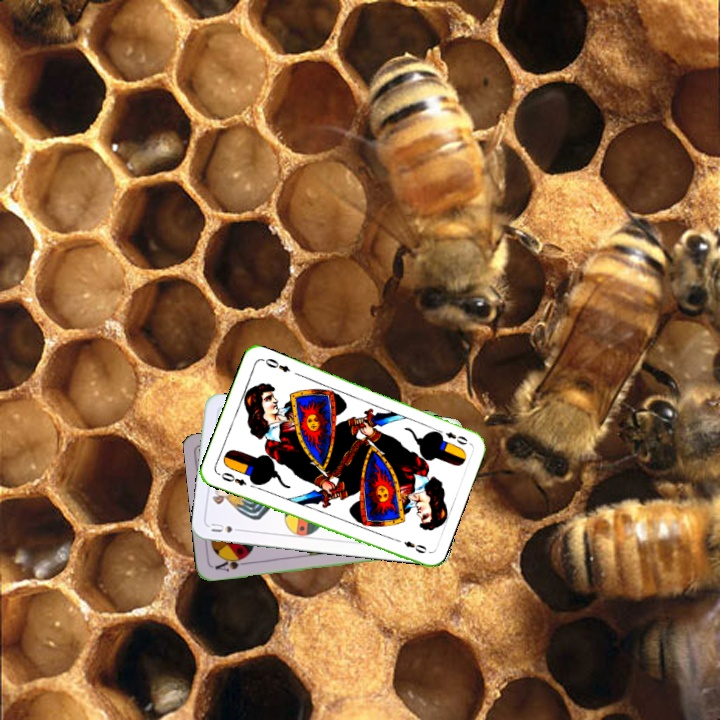EO: (432, 425, 470, 447), (214, 468, 249, 488)
SA: (211, 553, 251, 574)
SU: (207, 519, 246, 535)
